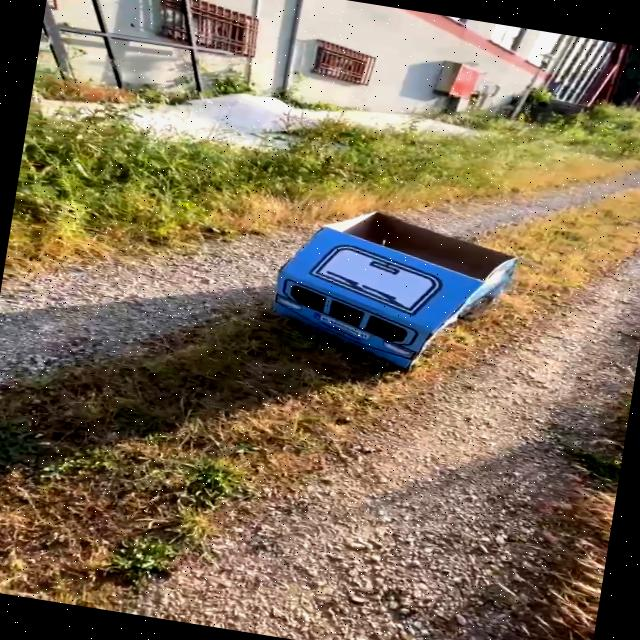blue_car: (215, 180, 565, 394)
